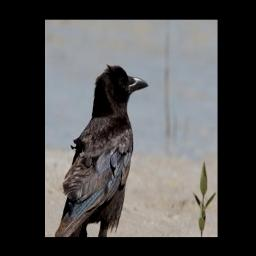Crow: (54, 63, 150, 237)
